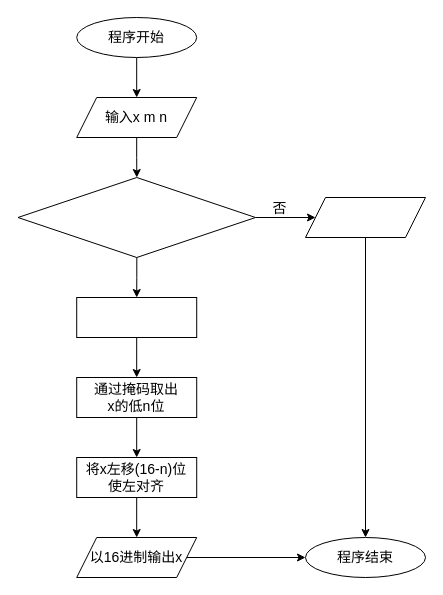
This 443x595 diagram has some shape labels left out. Here are the shapes that lost their labels. From the top down, the centre of each, then its label:
(136,217): 判断m n是否在取值范围内
(365,217): 输出 "error"
(136,317): 将x右移m位
